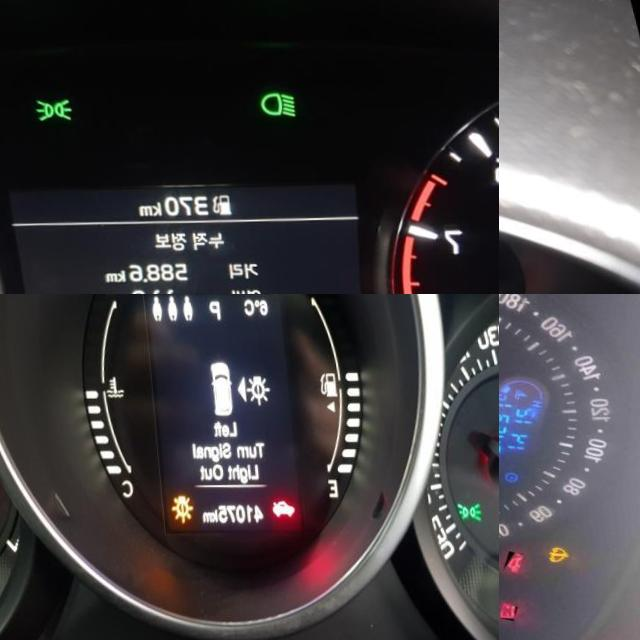Low beam: (256, 91, 296, 119)
SideLamp: (33, 97, 70, 121), (447, 503, 475, 523)
